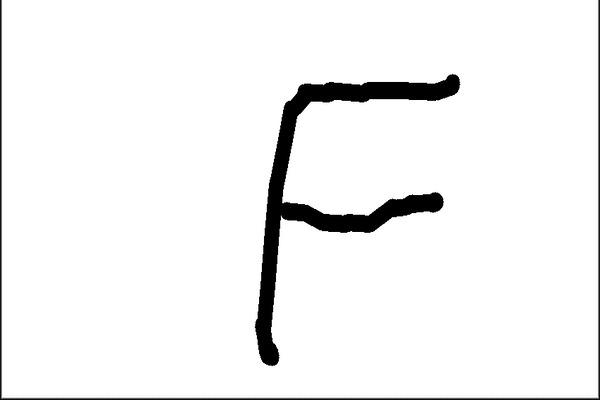F: (251, 71, 464, 369)
